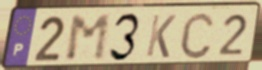2: (32, 14, 69, 64), (217, 13, 250, 57)
3: (105, 11, 143, 63)
C: (178, 10, 216, 61)
K: (144, 13, 178, 60)
M: (64, 13, 112, 64)
